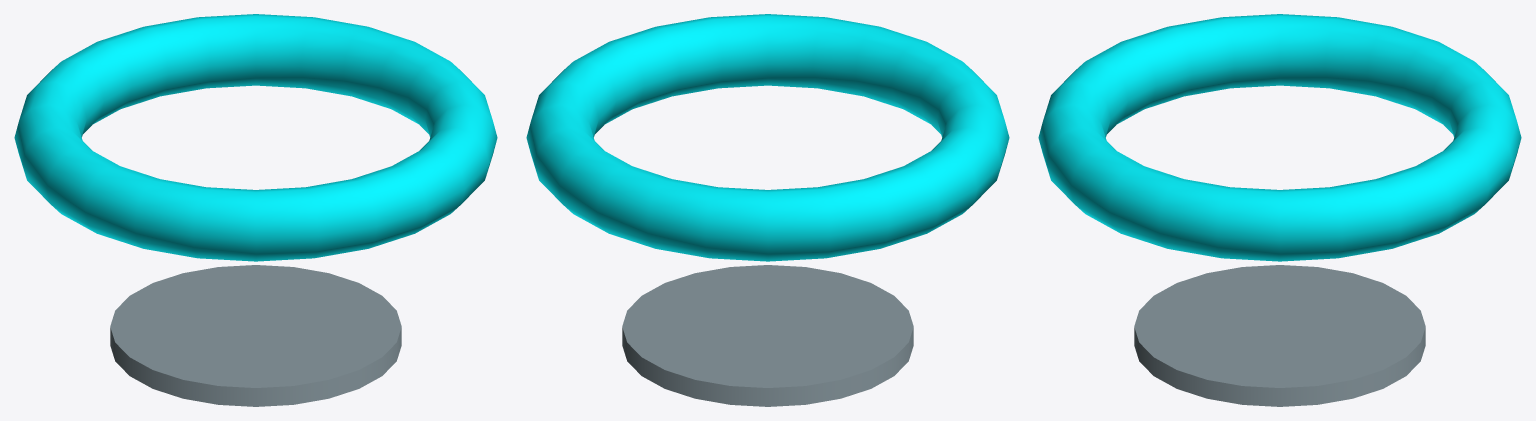
Rendered from sci-fi_portal_-_asset.glb.
3 renders of one model, left to right at view 1: azimuth 30°, elevation 25°; view 2: azimuth 150°, elevation 25°; view 3: azimuth 270°, elevation 25°, orthographic.
Bounding box in the file's own units: 1.5 × 0.825 × 1.5.
